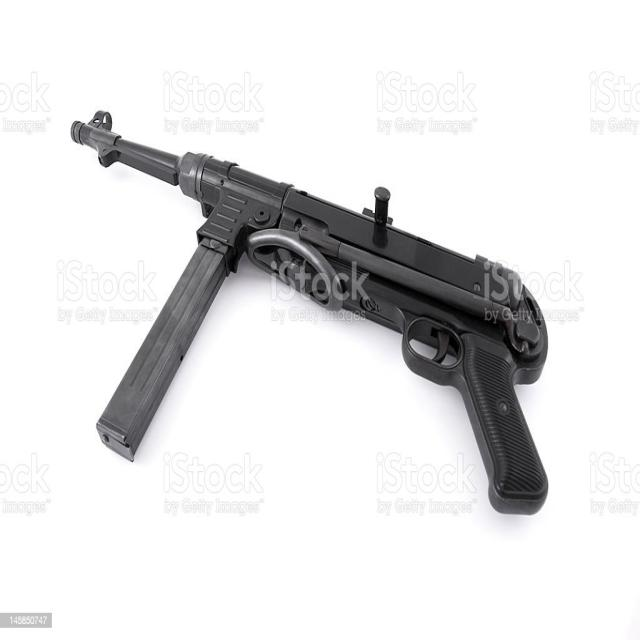SMG: (71, 112, 549, 517)
